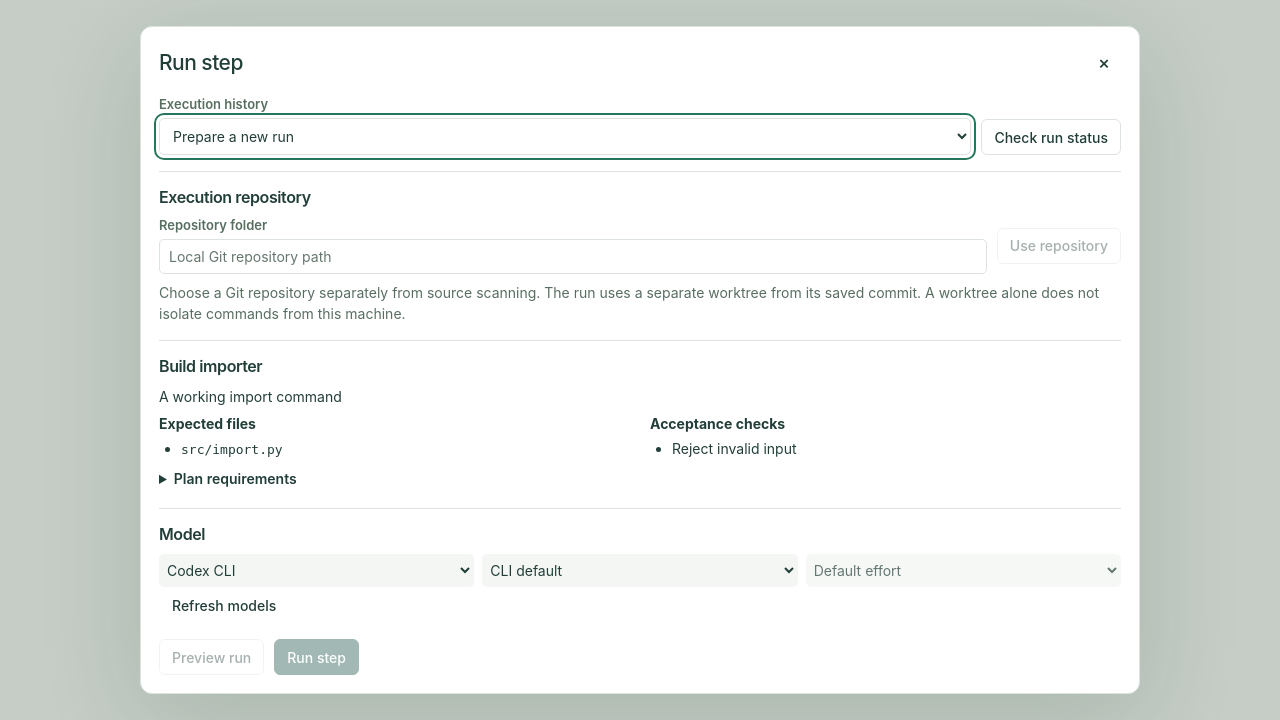
execution review and explicit actions › keeps repository confirmation separate from running and prevents a blocked preview
Check: the element "Execution repository" is shown, box [159, 171, 1121, 324]
Type "C:/new-repo" into the field labelled "Repository folder" at (573,256), box [159, 239, 987, 274]
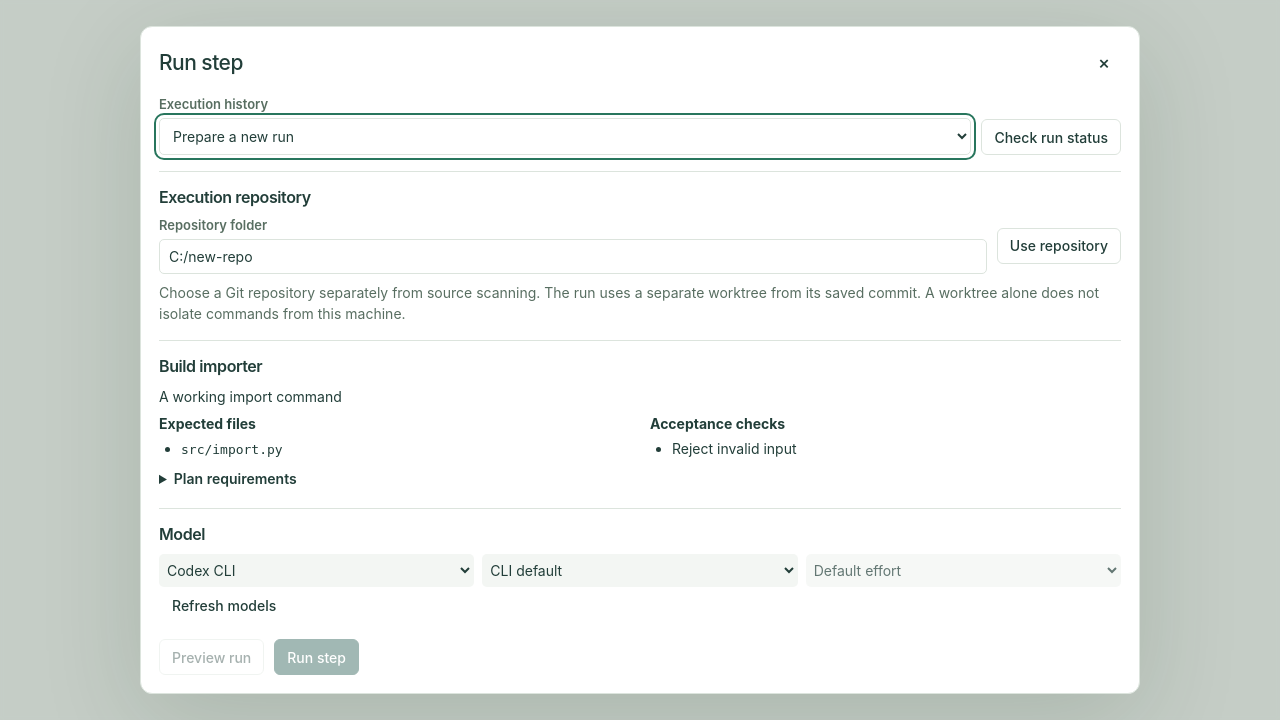
Click the button "Use repository" at (1059,246), box [997, 228, 1121, 264]
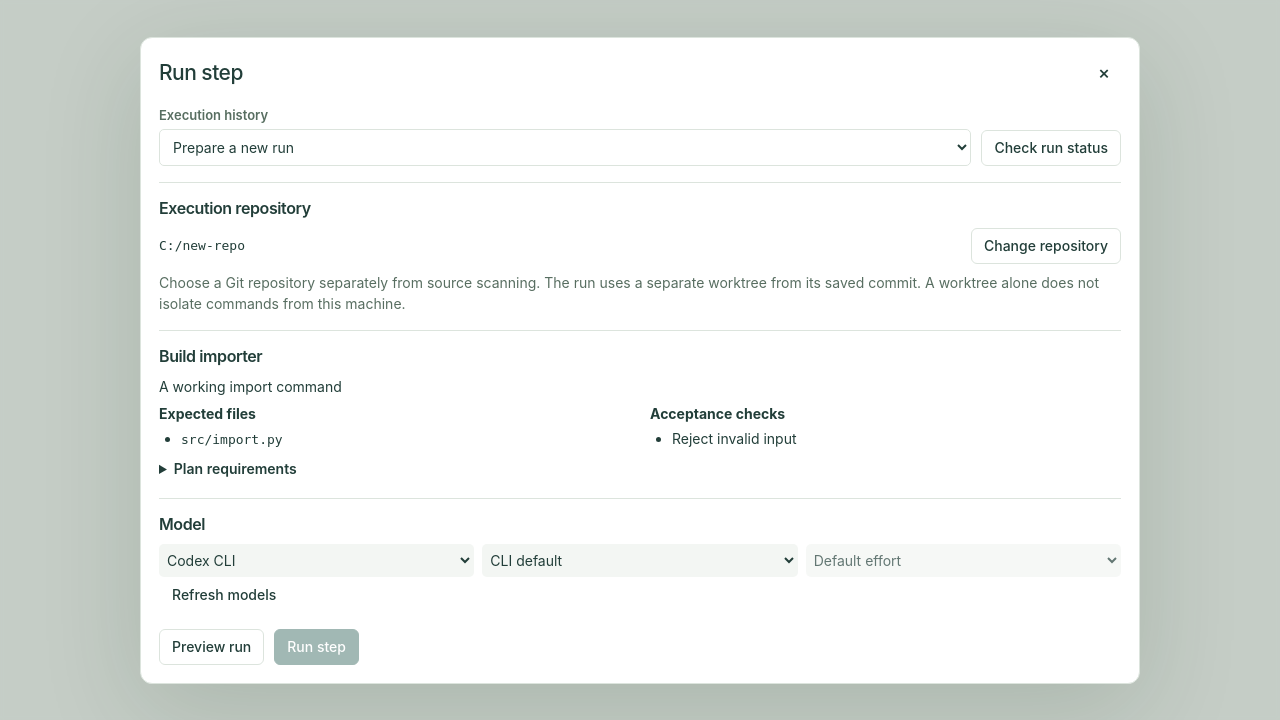
Check: the text "C:/new-repo" is shown, box [159, 238, 245, 253]
Click the button "Preview run" at (212,646), box [159, 628, 264, 664]
(page scrolled)
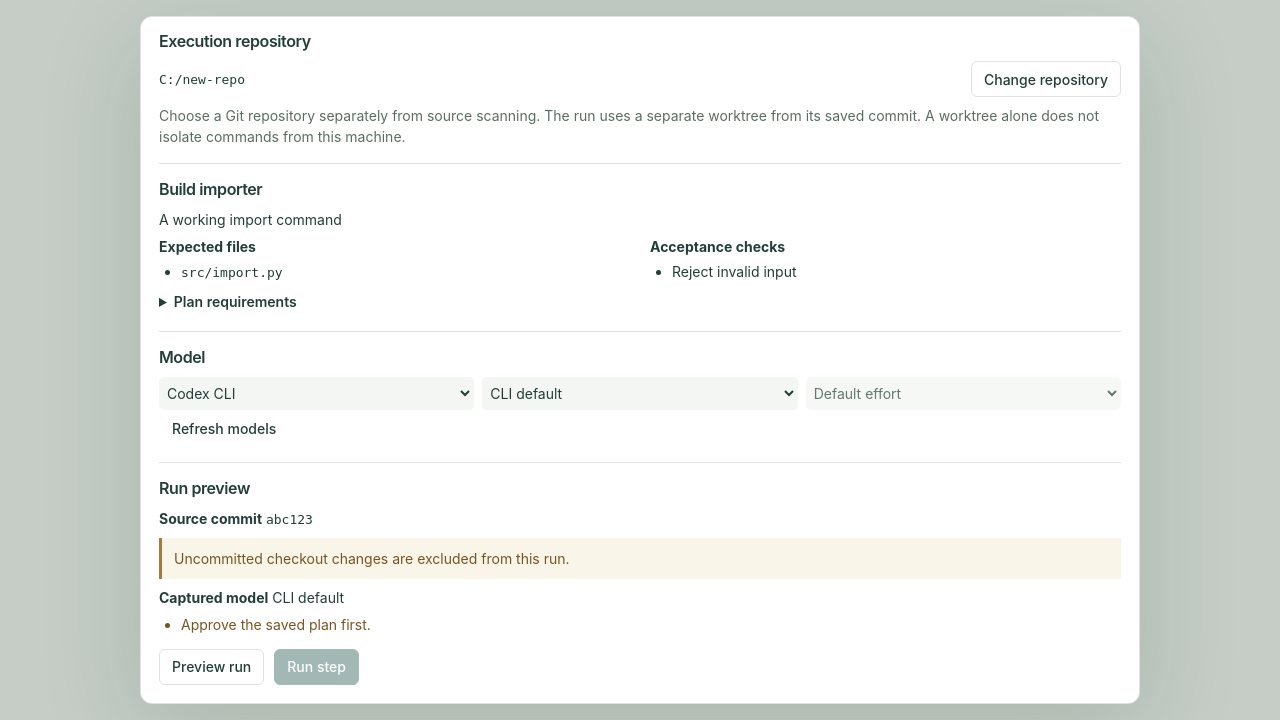
Check: the button "Run step" is disabled, box [274, 648, 359, 684]
Check: the element "Run preview" is shown, box [159, 462, 1121, 632]
Check: the list item "Approve the saved plan first." is shown, box [181, 616, 371, 632]
